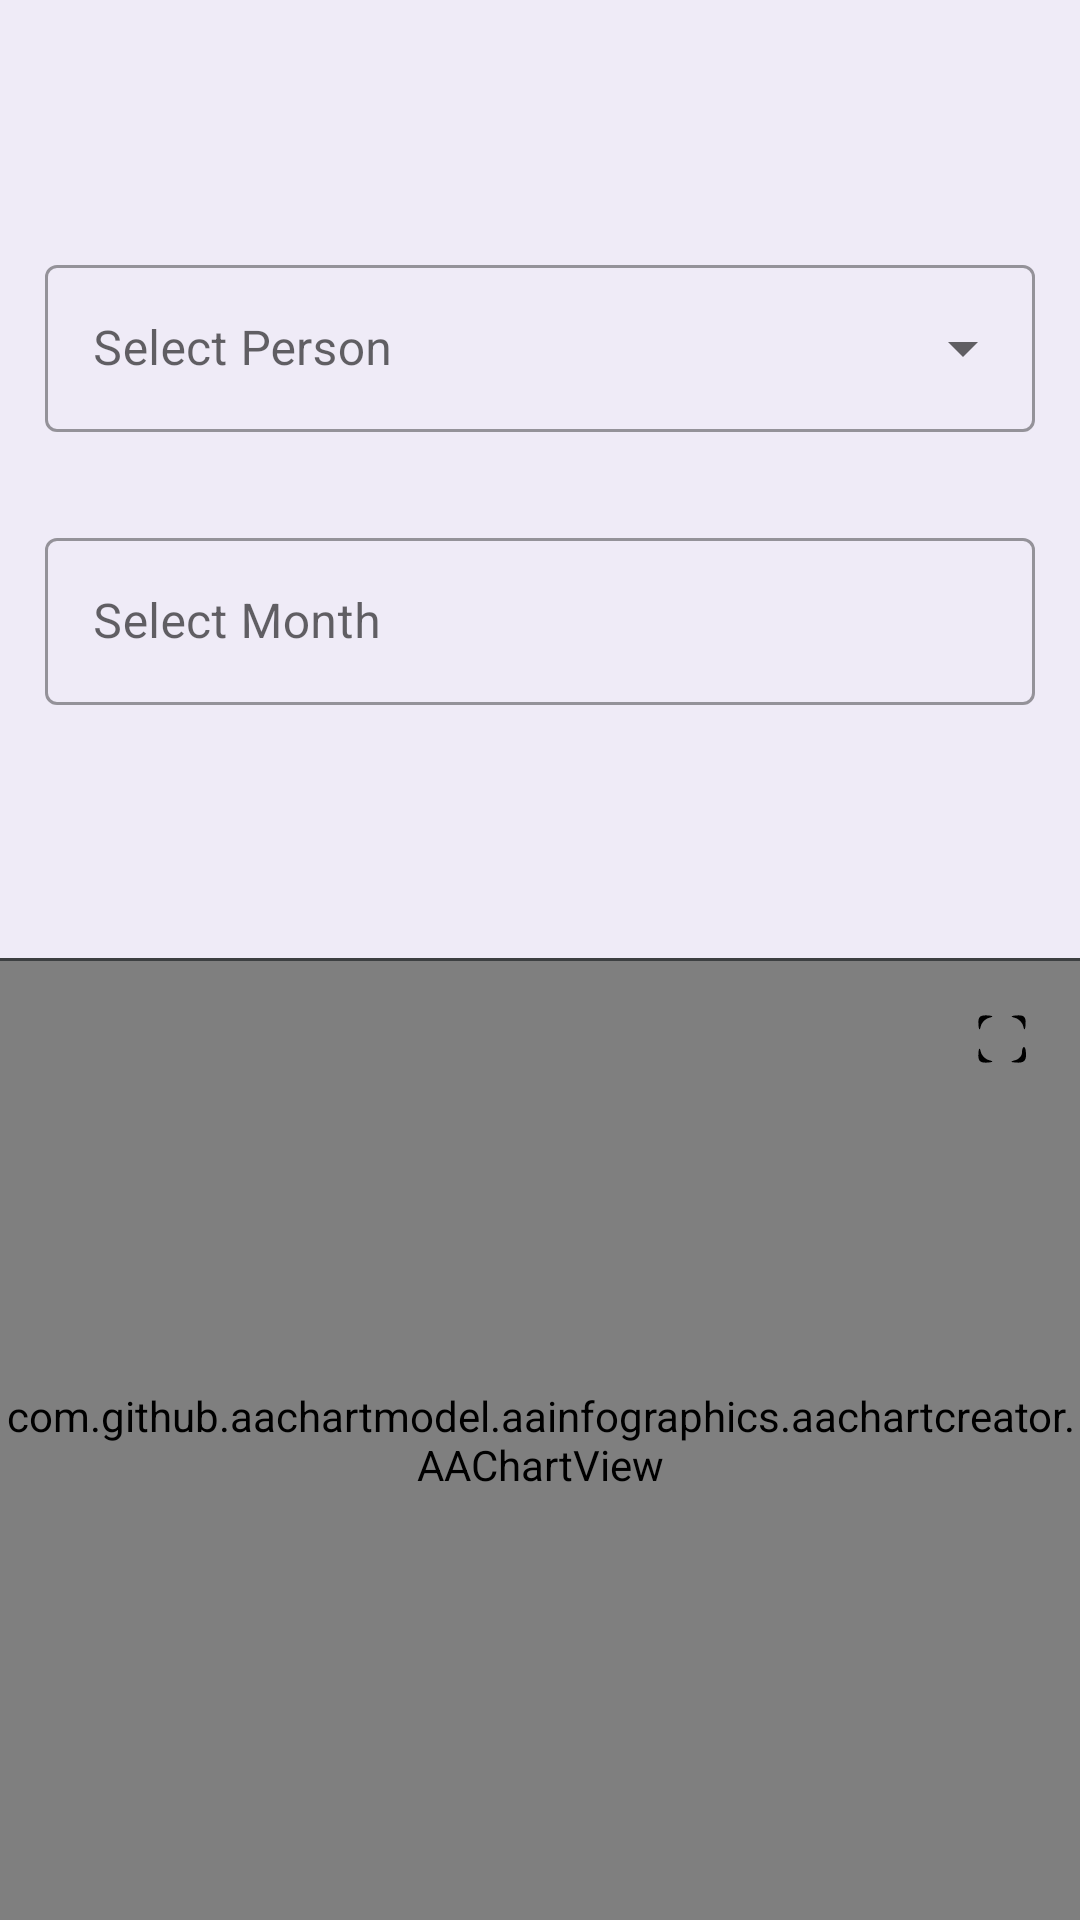

Icon bounding boxes for this 1080 × 1920 phone screenshot, format region(x1, y1, x2, y2):
expand: region(978, 1015, 1026, 1063)
